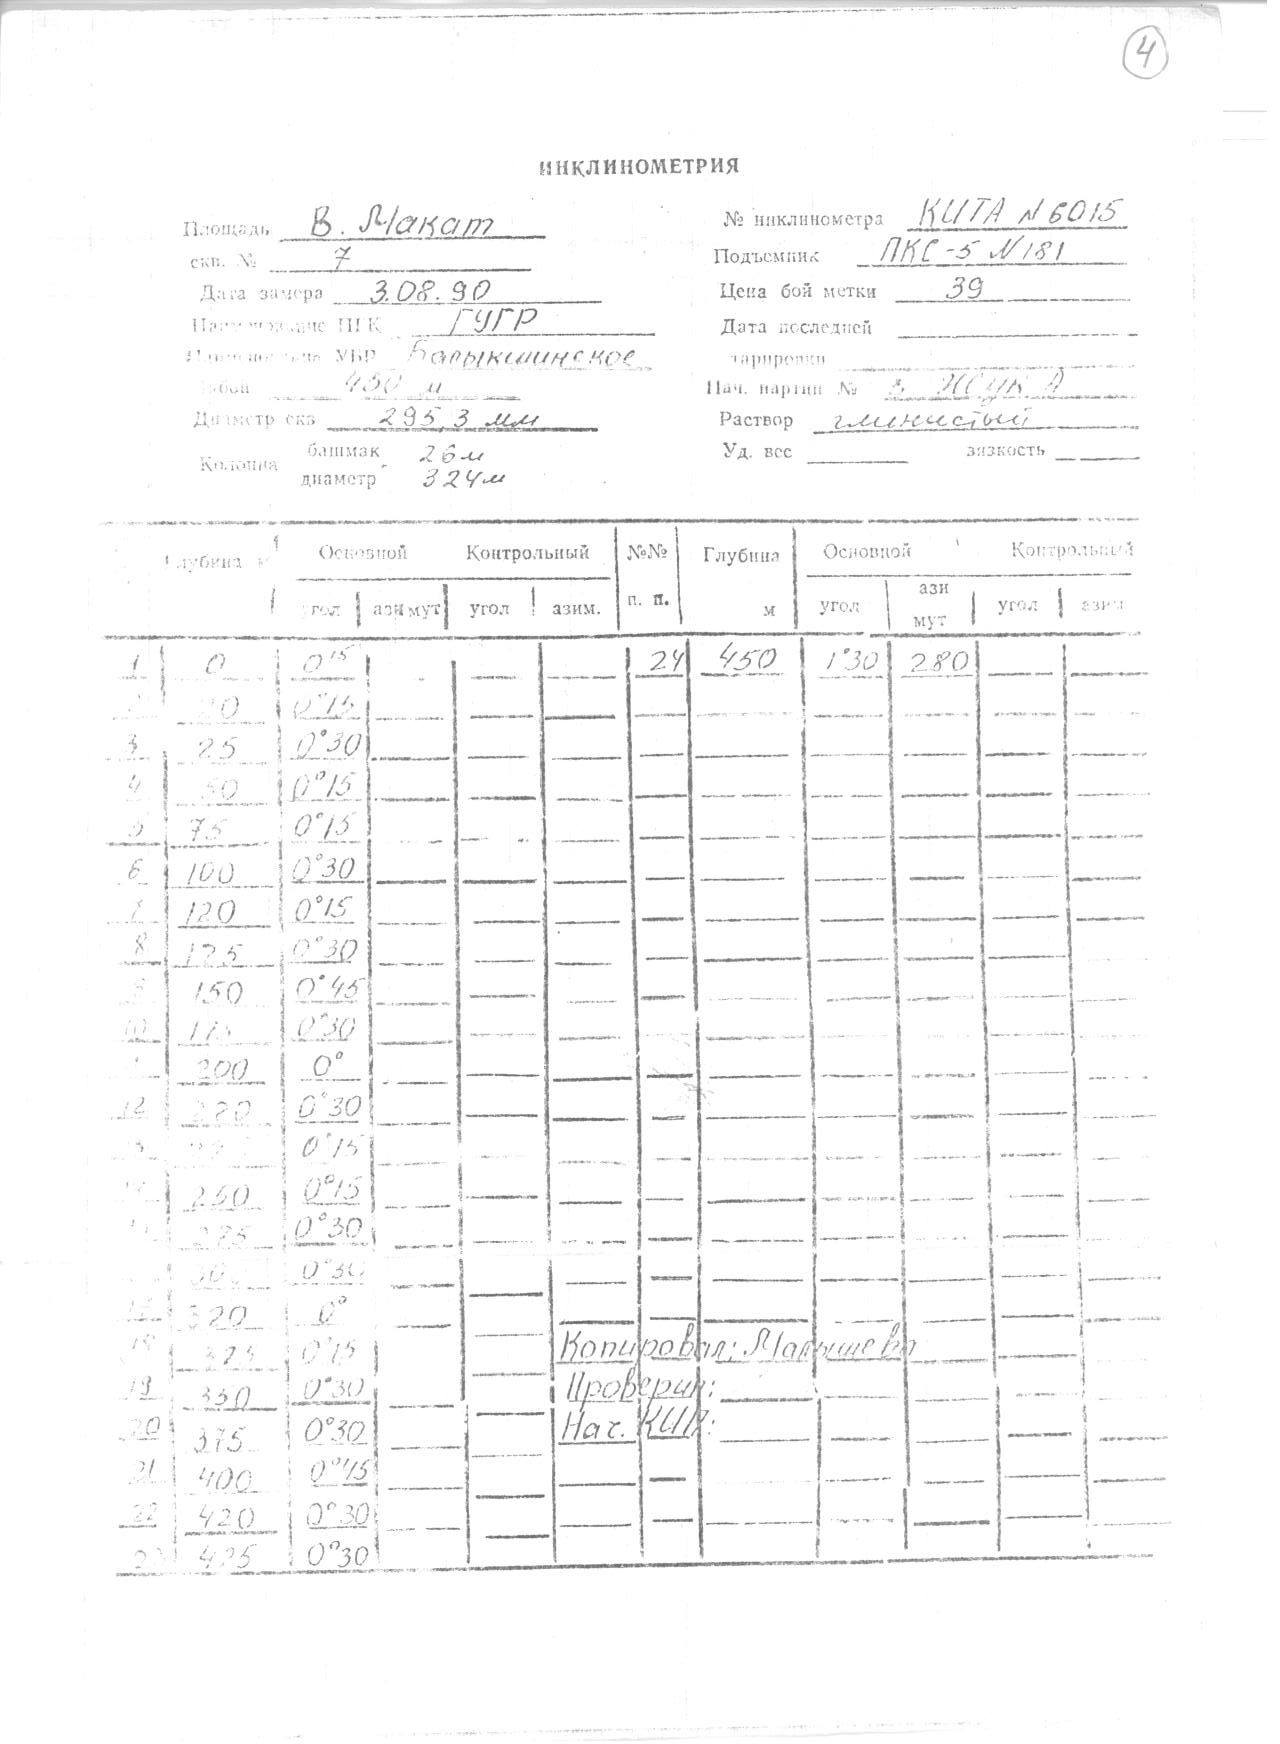Borderless: (107, 506, 1212, 1569)
